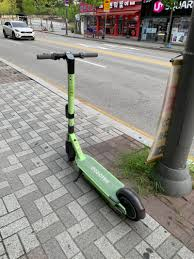kick_board: (38, 51, 144, 219)
kick_handler: (36, 50, 99, 71)
kick_neck: (69, 75, 76, 137)
kick_wheel: (117, 186, 144, 220), (65, 141, 75, 161)
